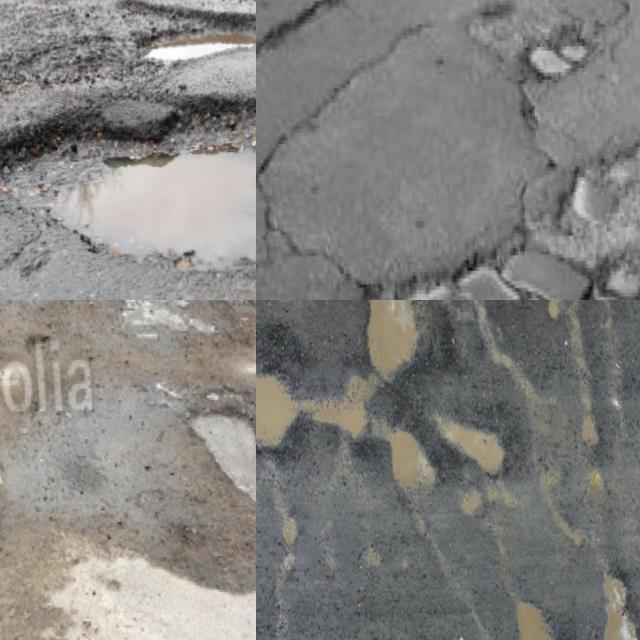Potholes: (256, 300, 527, 549), (0, 40, 256, 300), (268, 188, 640, 300), (459, 0, 640, 153), (92, 0, 256, 136), (155, 364, 256, 543), (494, 557, 640, 640), (32, 300, 204, 351), (336, 619, 482, 640), (614, 373, 640, 487)
